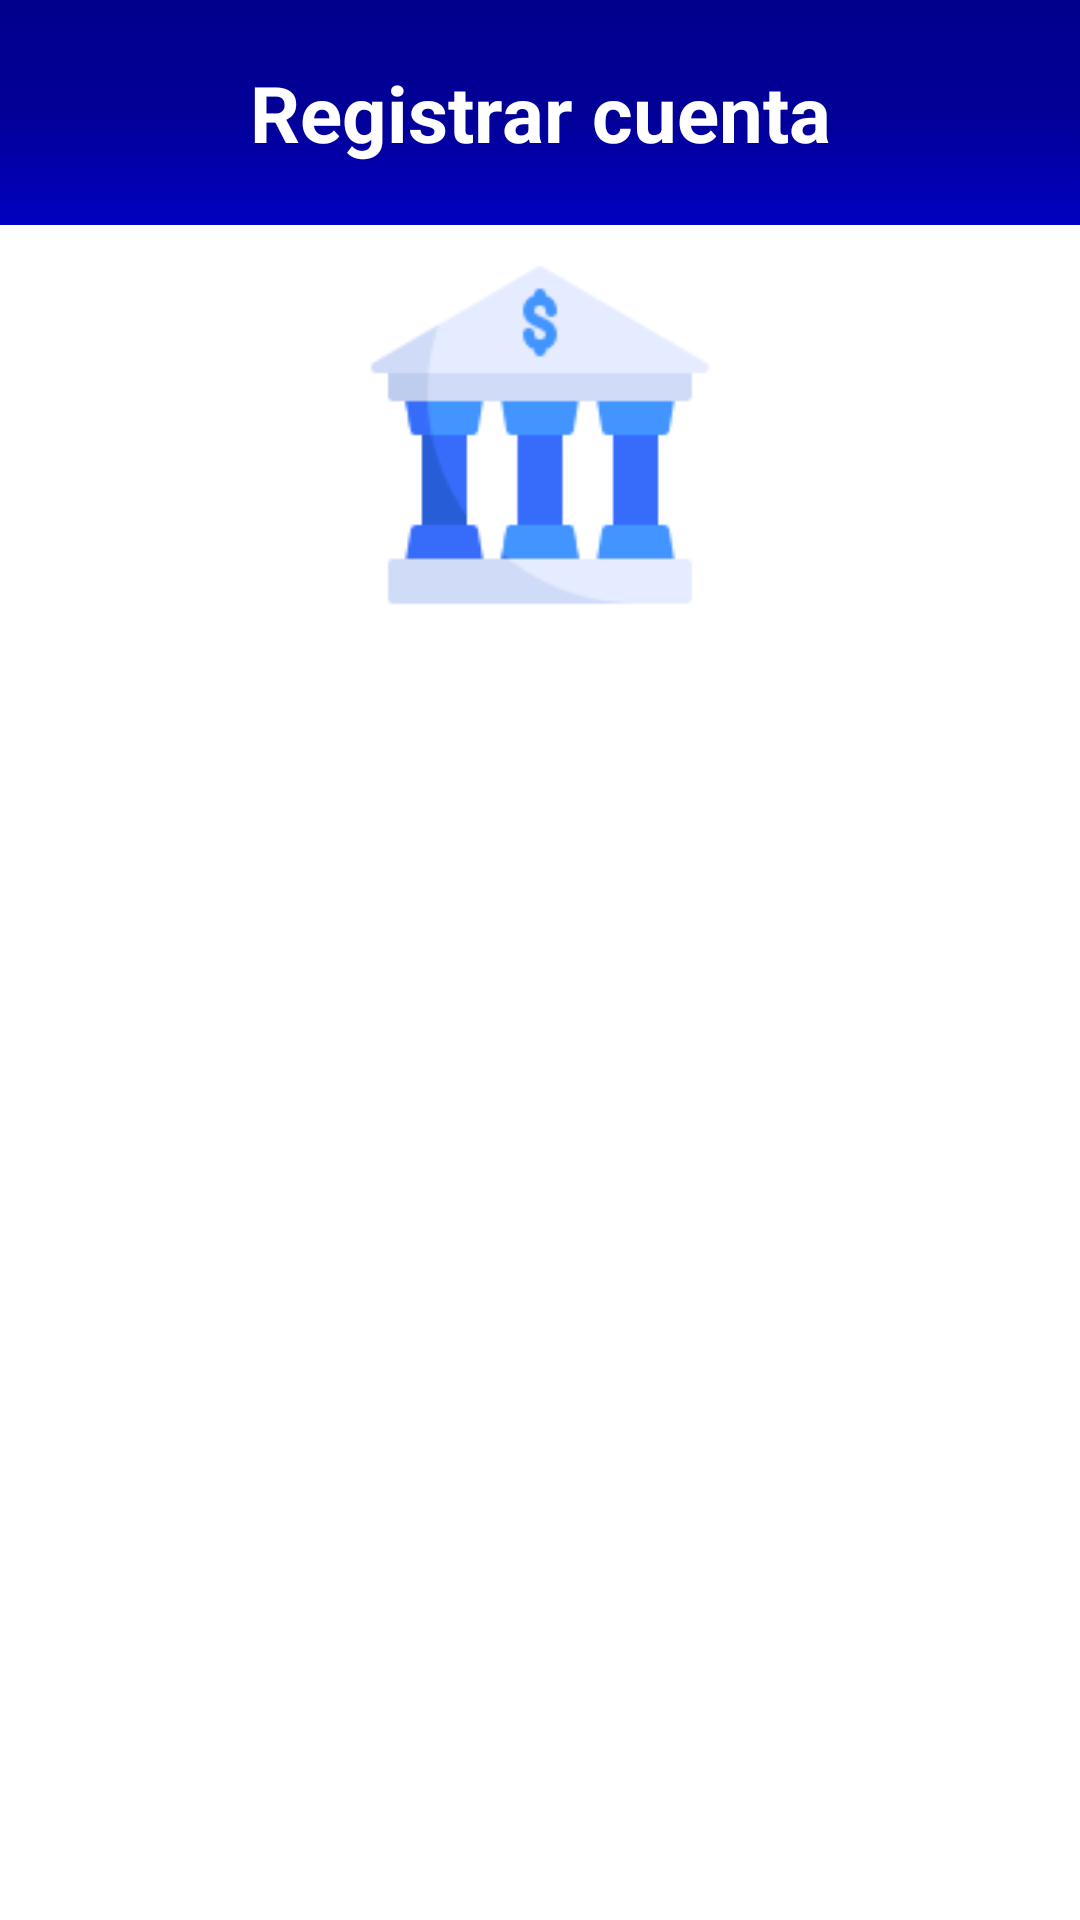

Named icons in this screenshot (1080 × 1920) and their centers, (x,y):
banco: (538,437)
